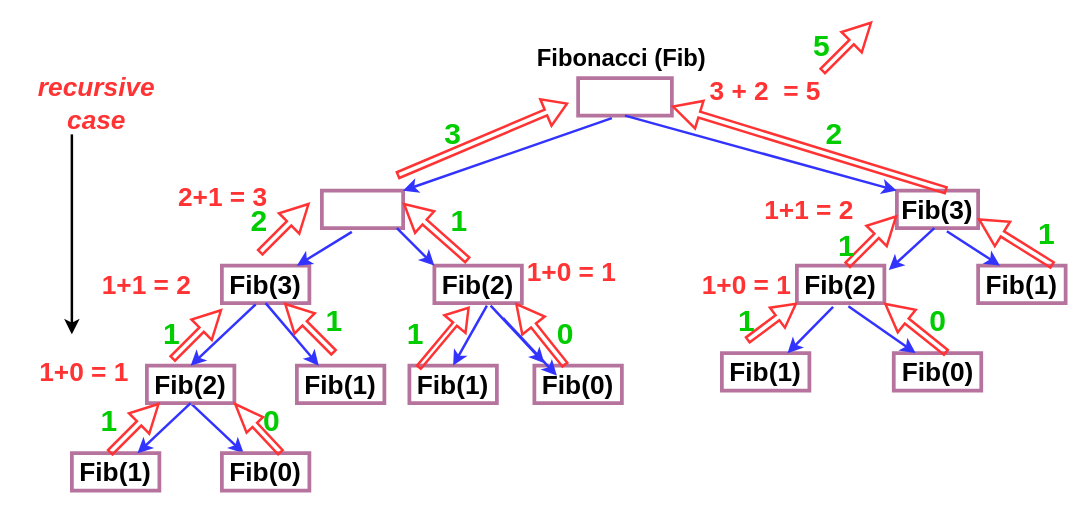
The diagram is 1089 pixels wide and 514 high, and some of its shapes have lost their labels. The box of each missing label's shape, as (x1, y1, x2, y2) in pixels:
Fib(4): (319, 188, 404, 229)
Fib(5): (576, 76, 673, 117)
